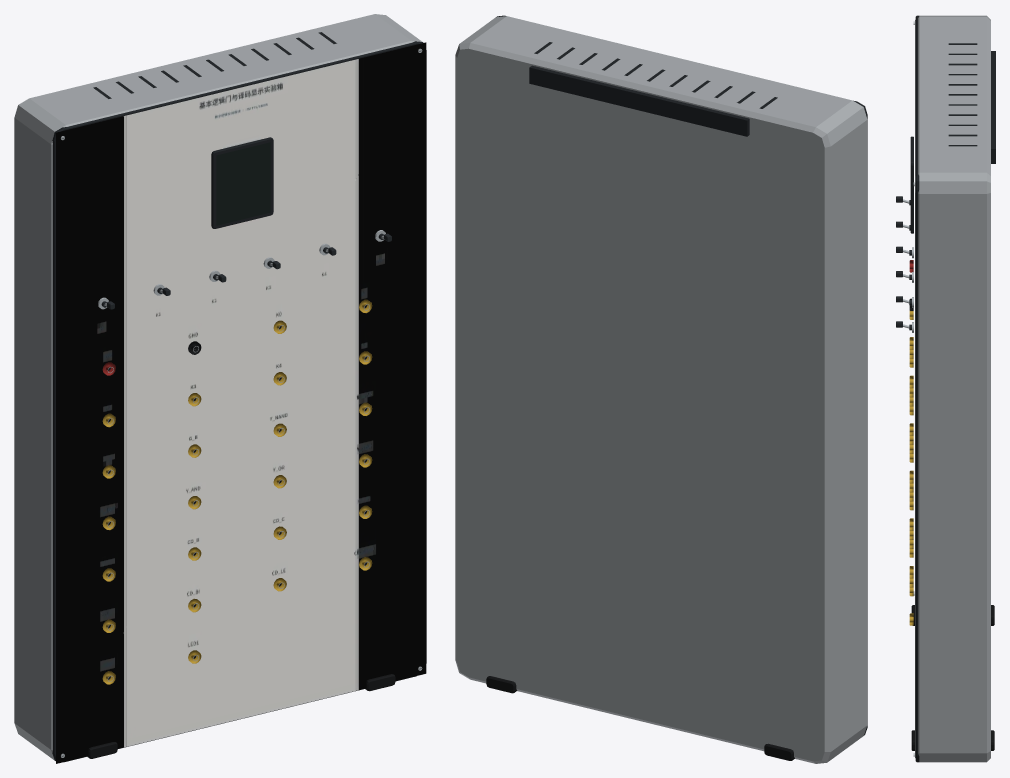
File: module.glb
3 renders of one model, left to right at view 1: azimuth 30°, elevation 25°; view 2: azimuth 150°, elevation 25°; view 3: azimuth 270°, elevation 25°, orthographic. The views are drawn at different scales.
Visible parts, largest first — view 1: PANEL_silkscreen, STATIC_paint, DISPLAY_DISP1, STATIC_metal; view 2: STATIC_paint; view 3: STATIC_paint.
Part boxes in pixels (x1,y1,x2,y2): PANEL_silkscreen: [56, 42, 426, 763]; STATIC_paint: [14, 14, 426, 762]; DISPLAY_DISP1: [216, 142, 270, 225]; STATIC_metal: [60, 48, 422, 757]; STATIC_paint: [455, 15, 867, 763]; STATIC_paint: [909, 15, 995, 762].
Size of the model in its own units: 0.29 by 0.4701 by 0.0723.
Materials: 10 (1 with a texture image).
